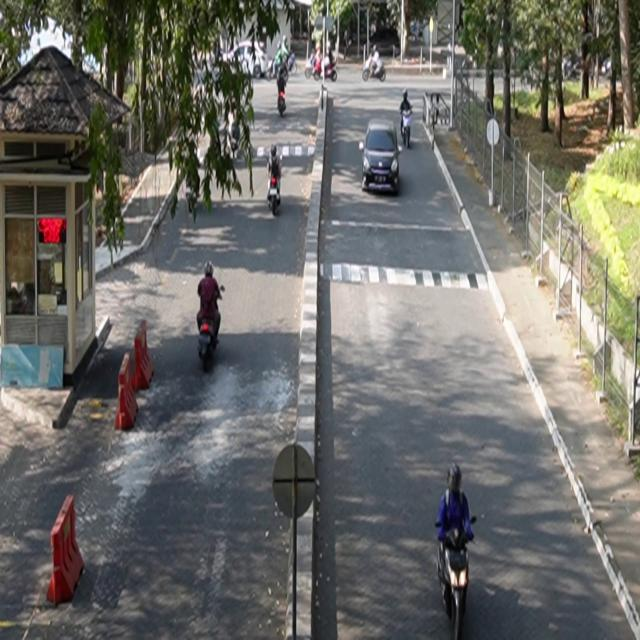car: (359, 119, 403, 195)
